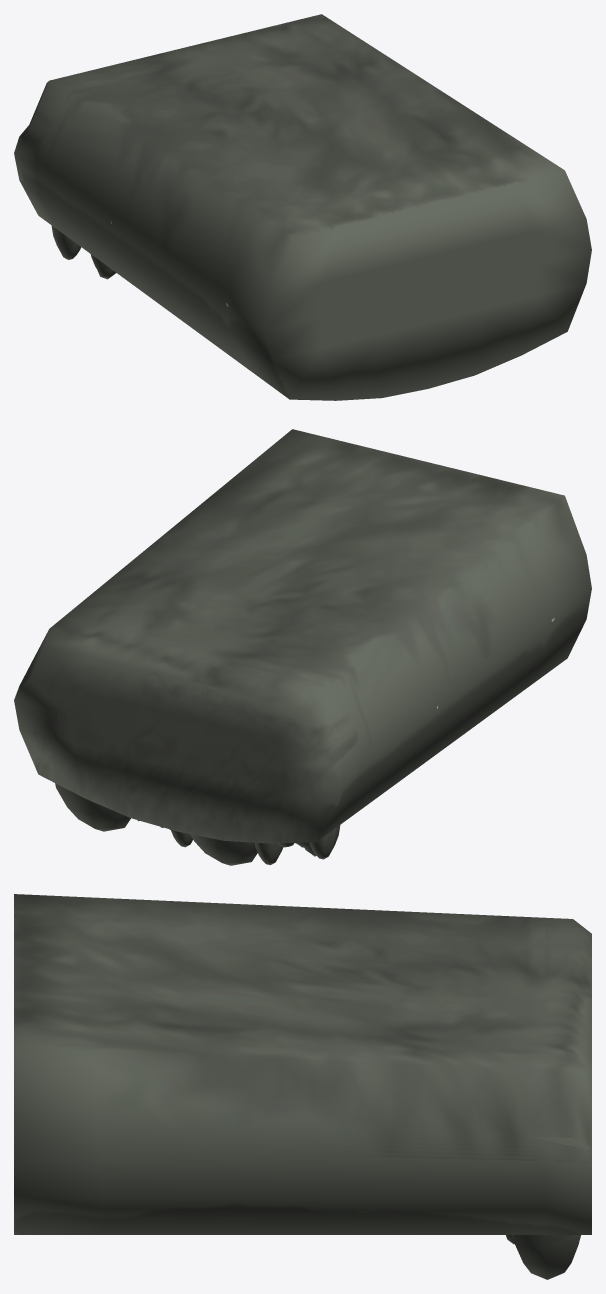
The model's file is platform.fbx.
3 views of the same model, one above another, from view 1: azimuth 30°, elevation 25°; view 2: azimuth 150°, elevation 25°; view 3: azimuth 270°, elevation 25° (orthographic). The views are drawn at different scales.
Parts seen in each view (by area): view 1: Cube; view 2: Cube; view 3: Cube.
Part boxes in pixels (<box>): Cube: <box>14,14,591,400</box>; Cube: <box>14,429,591,865</box>; Cube: <box>14,894,591,1279</box>.
Size of the model in its own units: 91.19 by 60.18 by 122.
